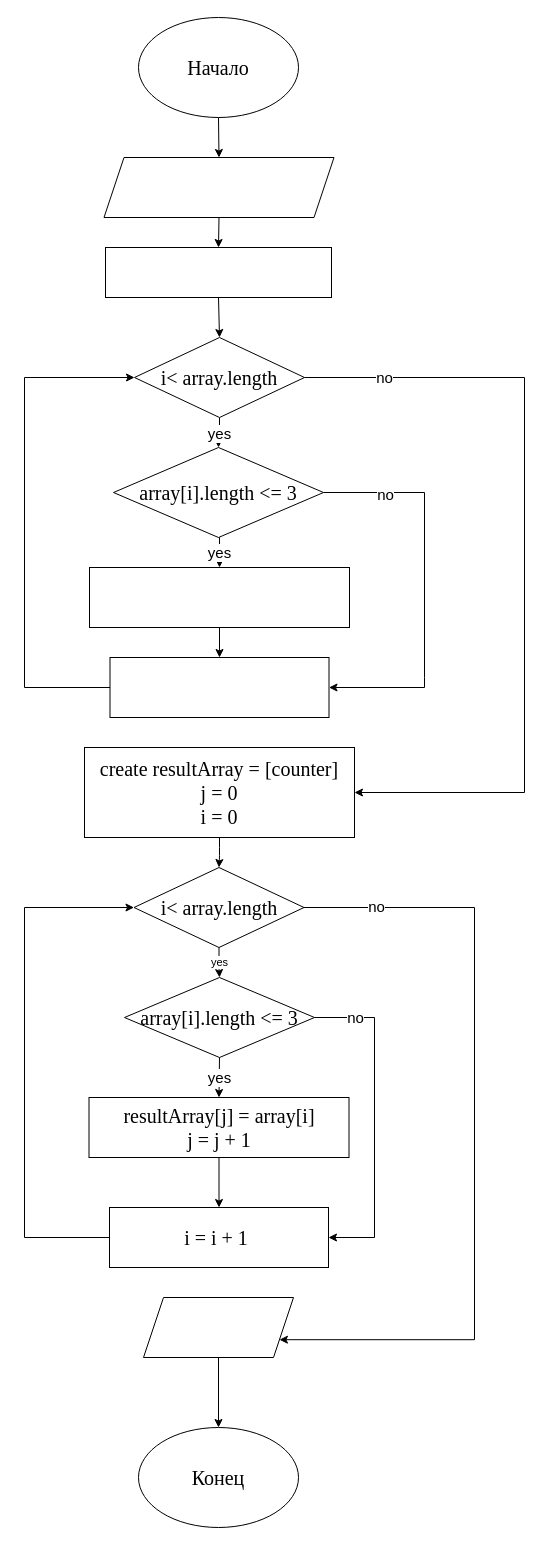
Image size: 550x1545. Some labels were removed from this diagram. The centre of each missing label's shape, as x and y in pixels:
"counter = counter + 1" goes at point 219,597.
"i = 0 counter = 0" goes at point 218,272.
"i= i + 1" goes at point 219,687.
"resultArray" goes at point 218,1327.
"string array" goes at point 218,187.
